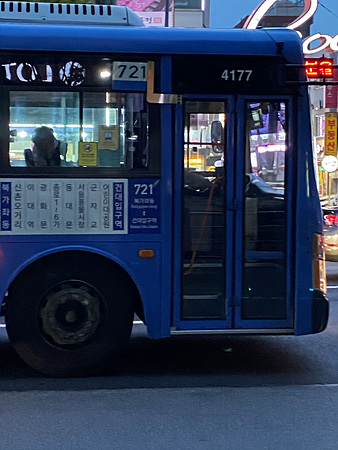entrance: (173, 85, 298, 340)
